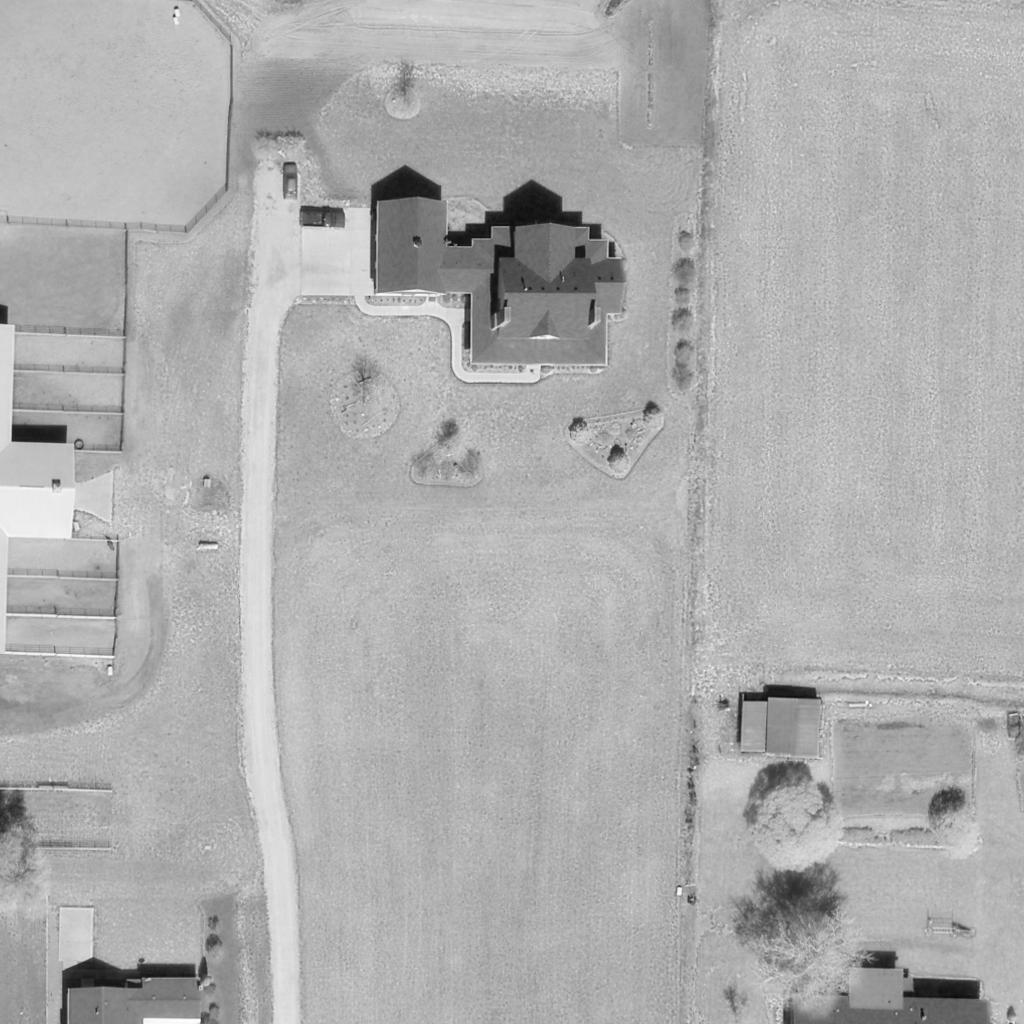vehicle: (300, 210, 346, 228), (283, 162, 297, 200)
